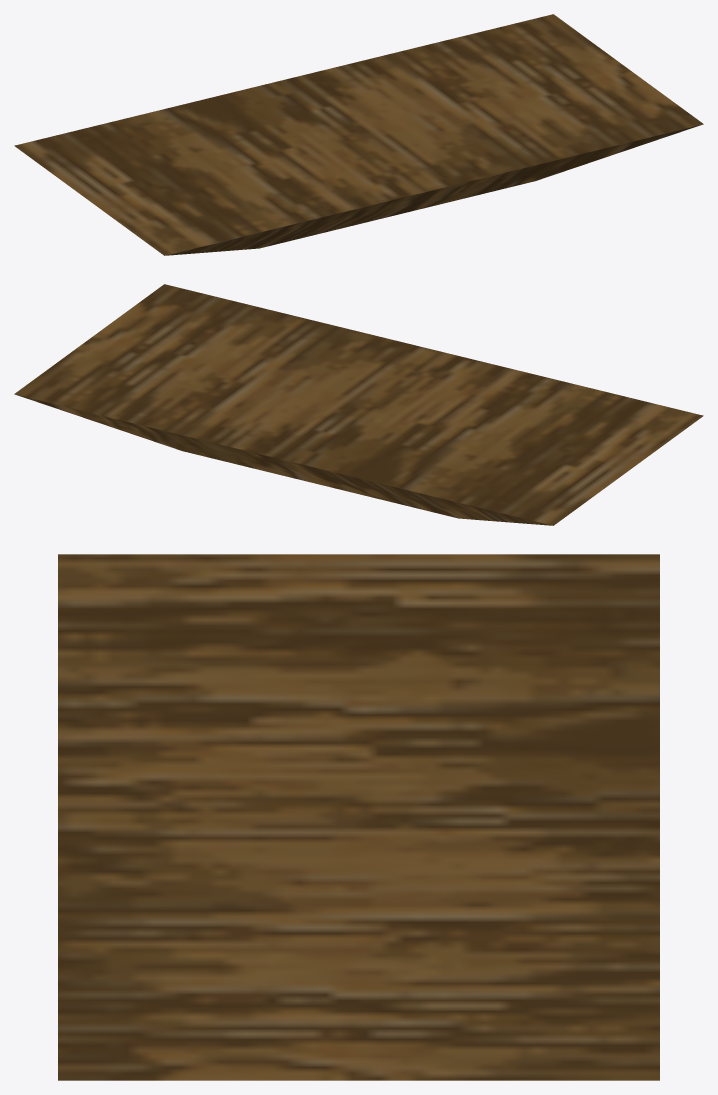
The model's file is SM_WhiteLightLight.fbx.
The picture shows the model from 3 angles, top to bottom: view 1: azimuth 30°, elevation 25°; view 2: azimuth 150°, elevation 25°; view 3: azimuth 270°, elevation 25°; orthographic projection. The views are drawn at different scales.
Visible parts, largest first — view 1: SM_WhiteLightLight; view 2: SM_WhiteLightLight; view 3: SM_WhiteLightLight.
Part boxes in pixels (bbox=[...]): SM_WhiteLightLight: bbox=[14, 14, 703, 255]; SM_WhiteLightLight: bbox=[14, 284, 703, 525]; SM_WhiteLightLight: bbox=[58, 554, 659, 1080].
Size of the model in its own units: 391 by 35.74 by 189.
